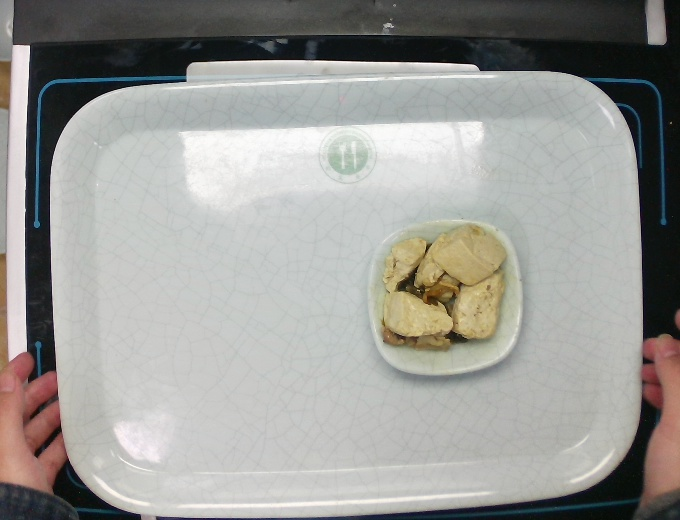JYsf-Si_Fang_Die: (358, 208, 534, 377)
